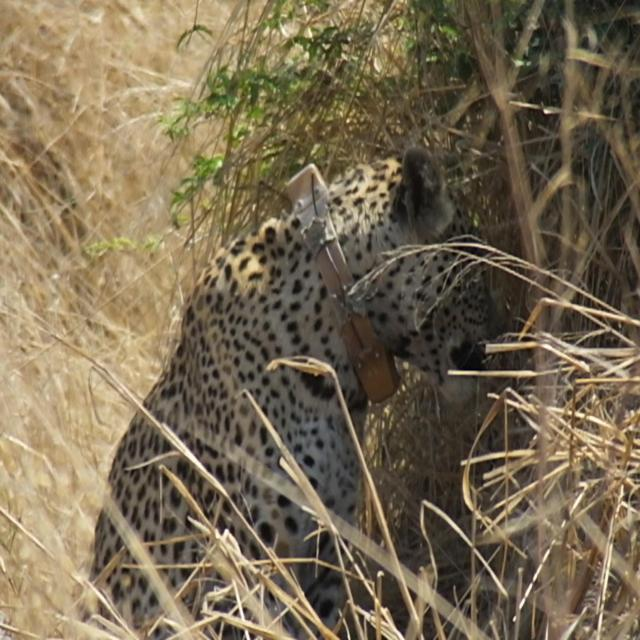Leopard: (54, 140, 640, 632)
